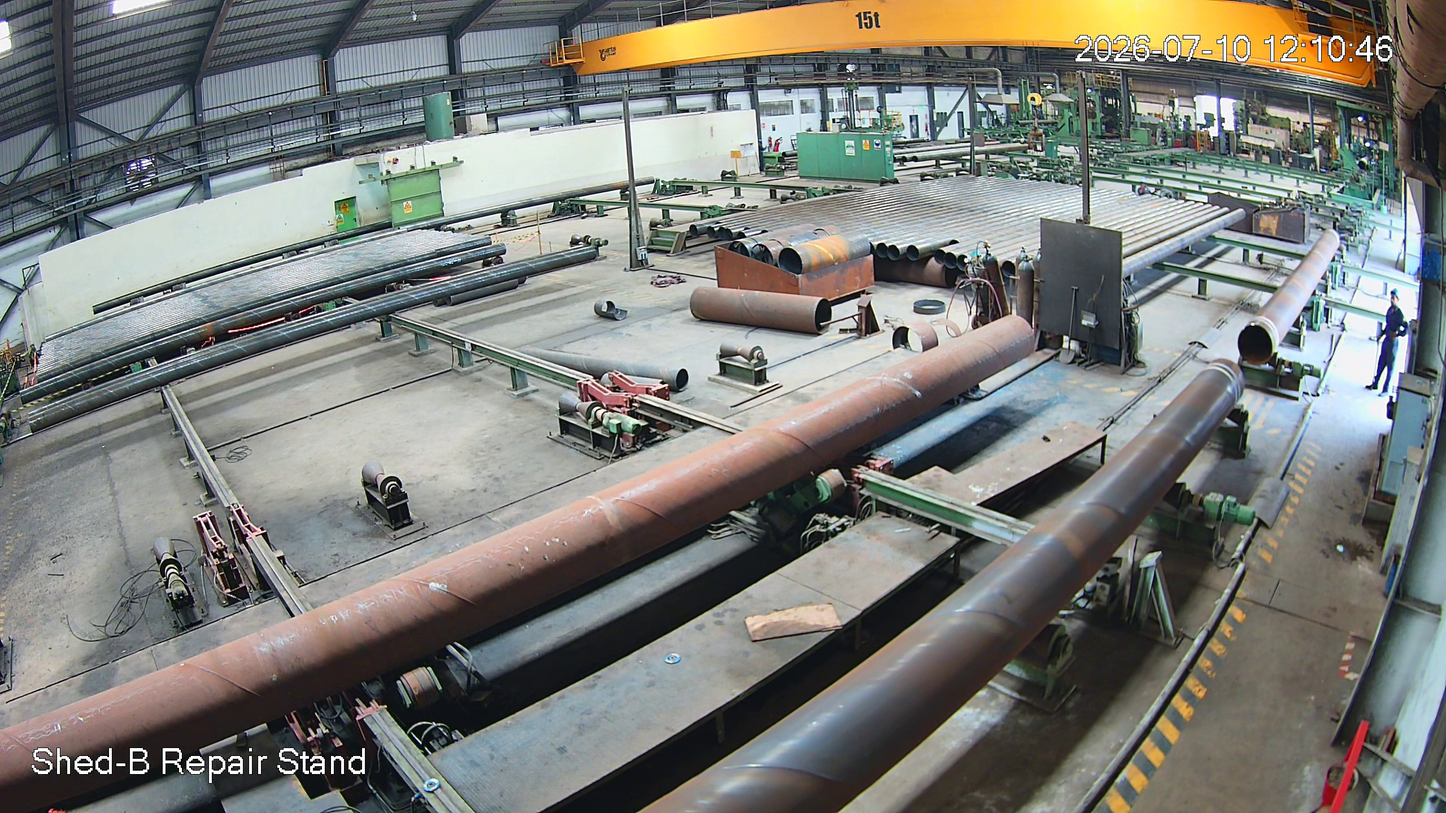Helmet: (1382, 285, 1402, 313)
Person: (1367, 287, 1409, 404)
